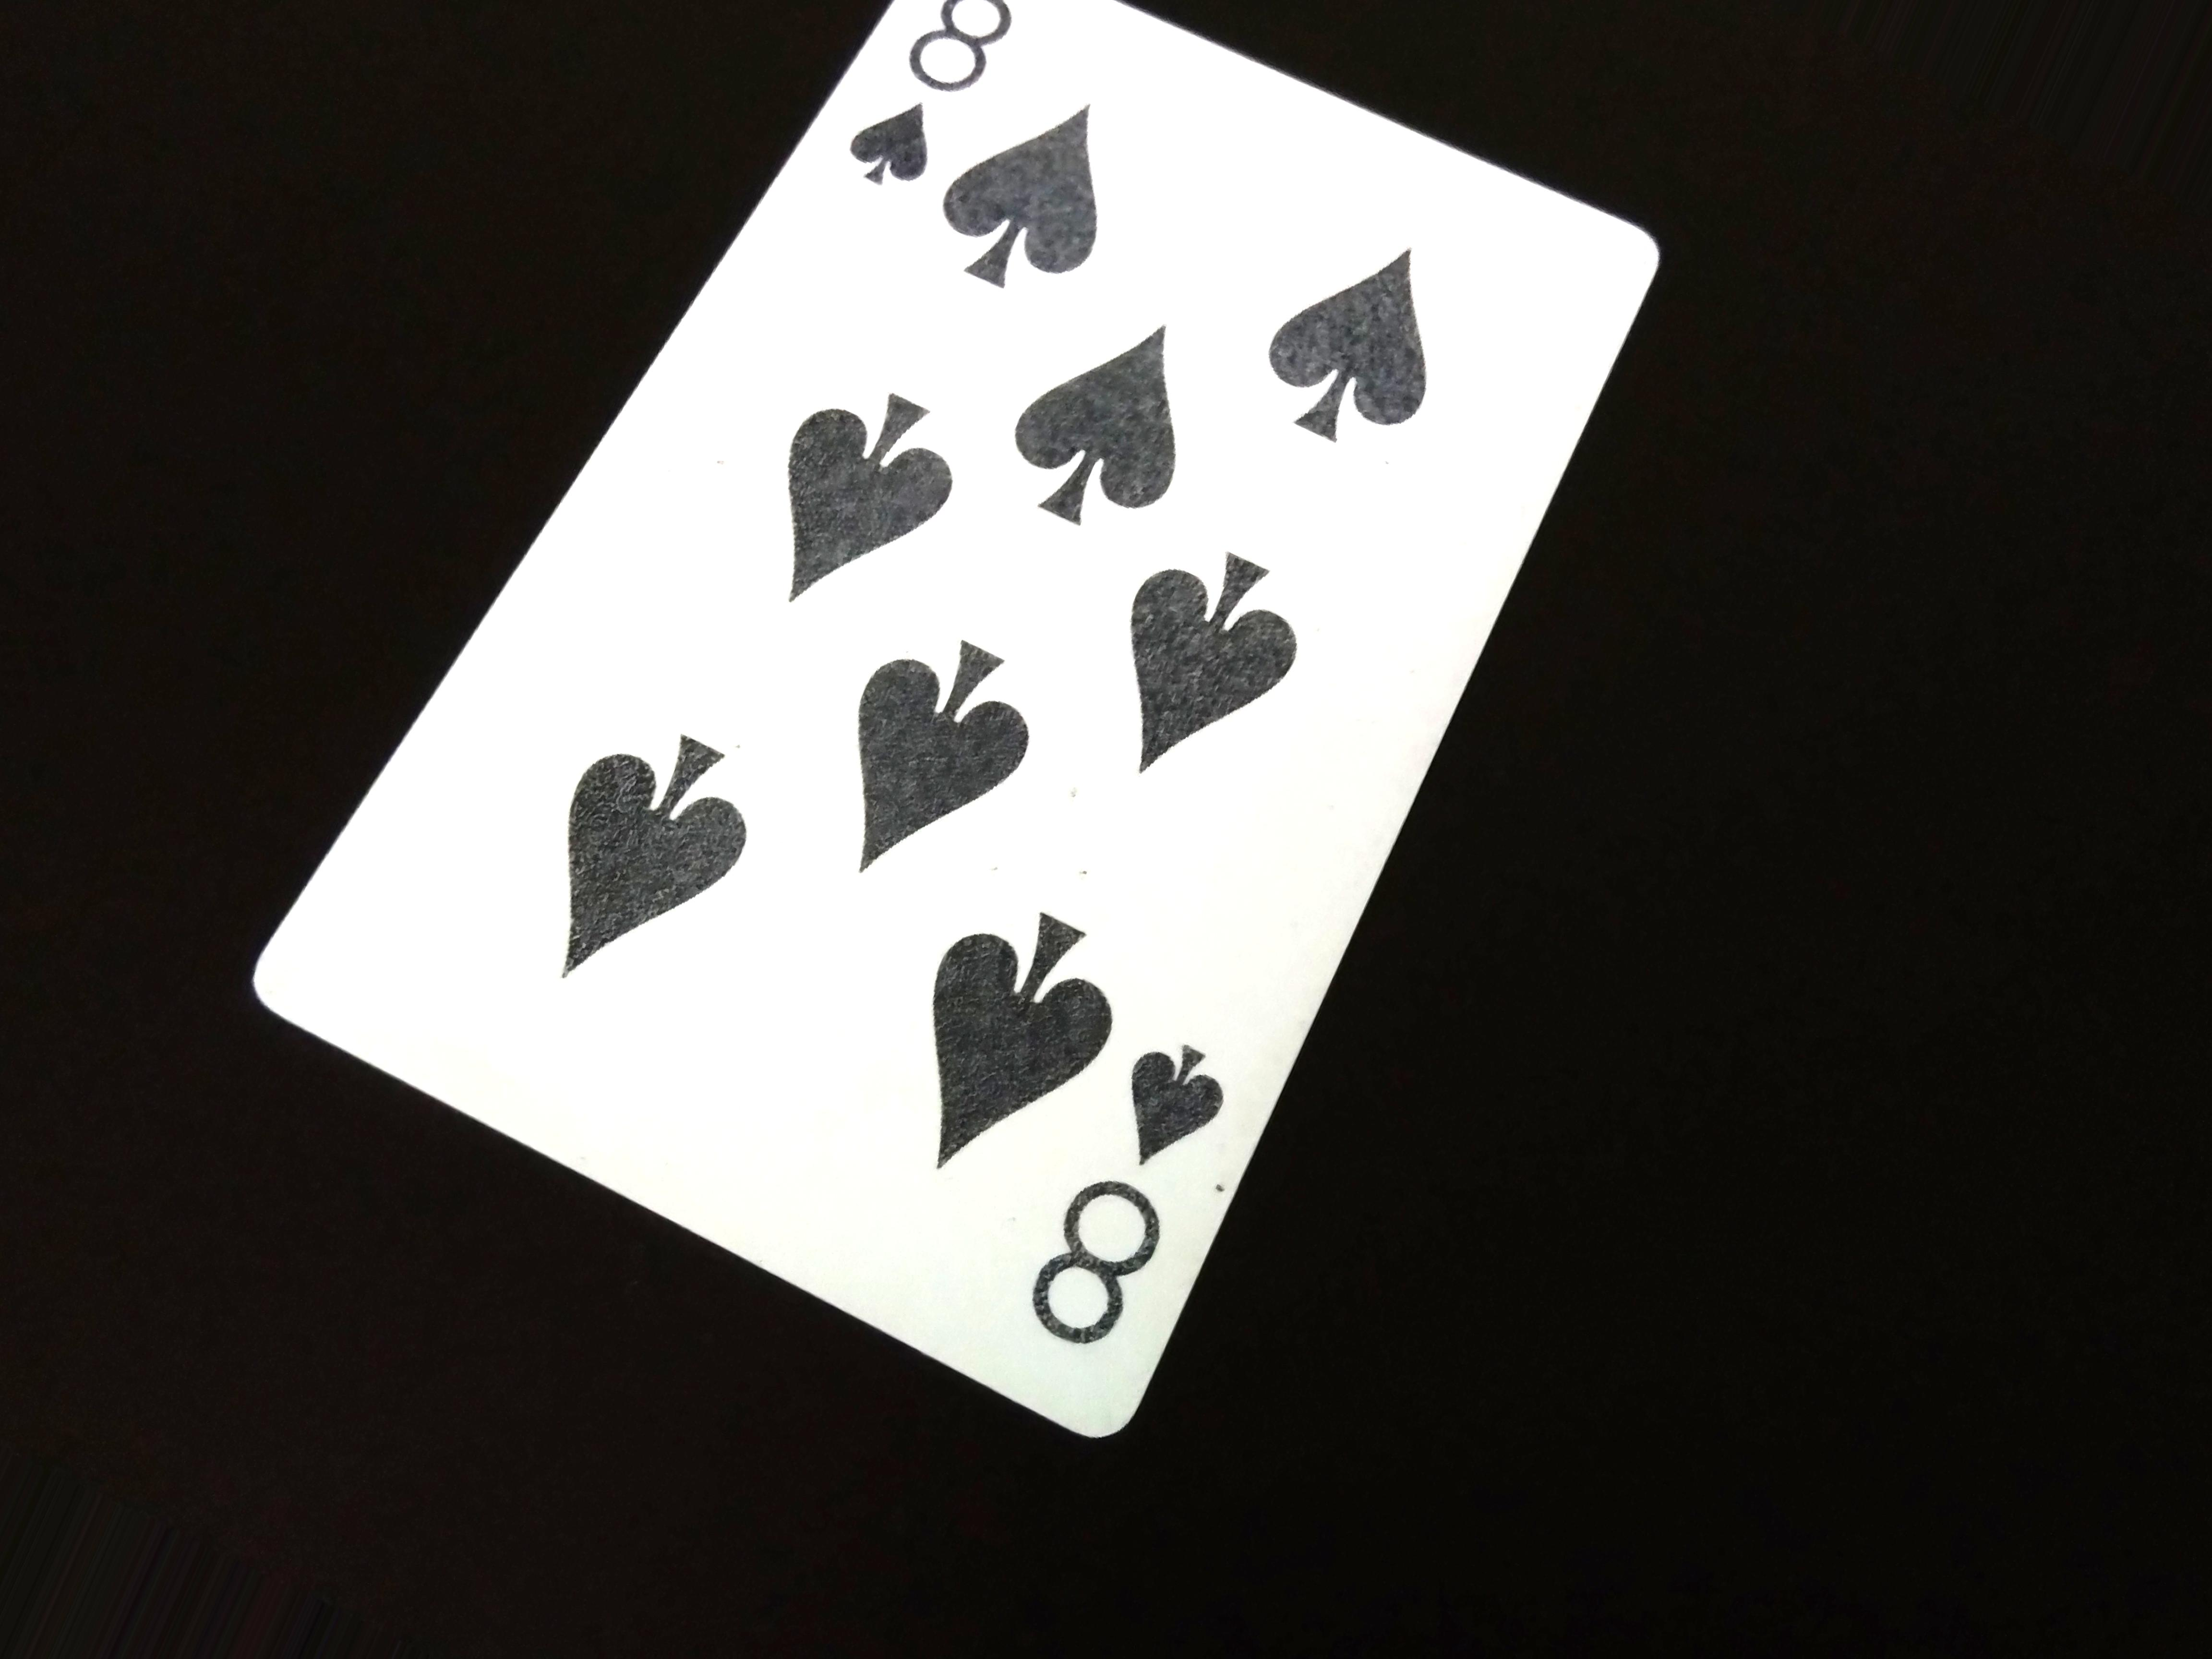8S: (1017, 1037, 1247, 1344)
